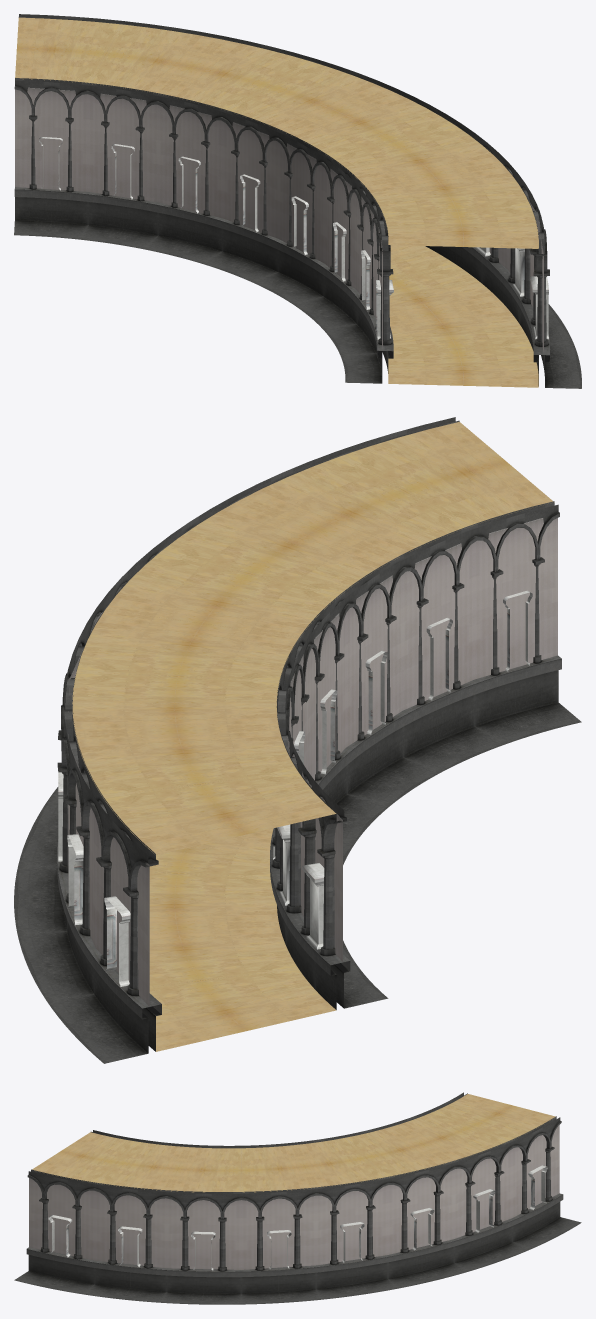
3 renders of one model, top to bottom at view 1: azimuth 30°, elevation 25°; view 2: azimuth 150°, elevation 25°; view 3: azimuth 270°, elevation 25°, orthographic. The views are drawn at different scales.
Visible parts, largest first — view 1: sdf005, sdf006, sdf004, sdf007; view 2: sdf005, sdf006, sdf004, sdf007; view 3: sdf006, sdf004, sdf005, sdf007.
Part boxes in pixels (x1,y1,x2,y2): sdf005: (15,17,538,387); sdf006: (14,14,581,388); sdf004: (15,87,543,353); sdf007: (39,137,548,339); sdf005: (72,422,554,1051); sdf006: (14,417,581,1063); sdf004: (68,518,557,1006); sdf007: (58,590,532,986); sdf006: (14,1092,581,1304); sdf004: (29,1125,559,1269); sdf005: (32,1094,555,1192); sdf007: (48,1165,547,1270).
Bounding box in the file's own units: 9.61 × 3.79 × 19.5.
4 materials, 4 textured.
